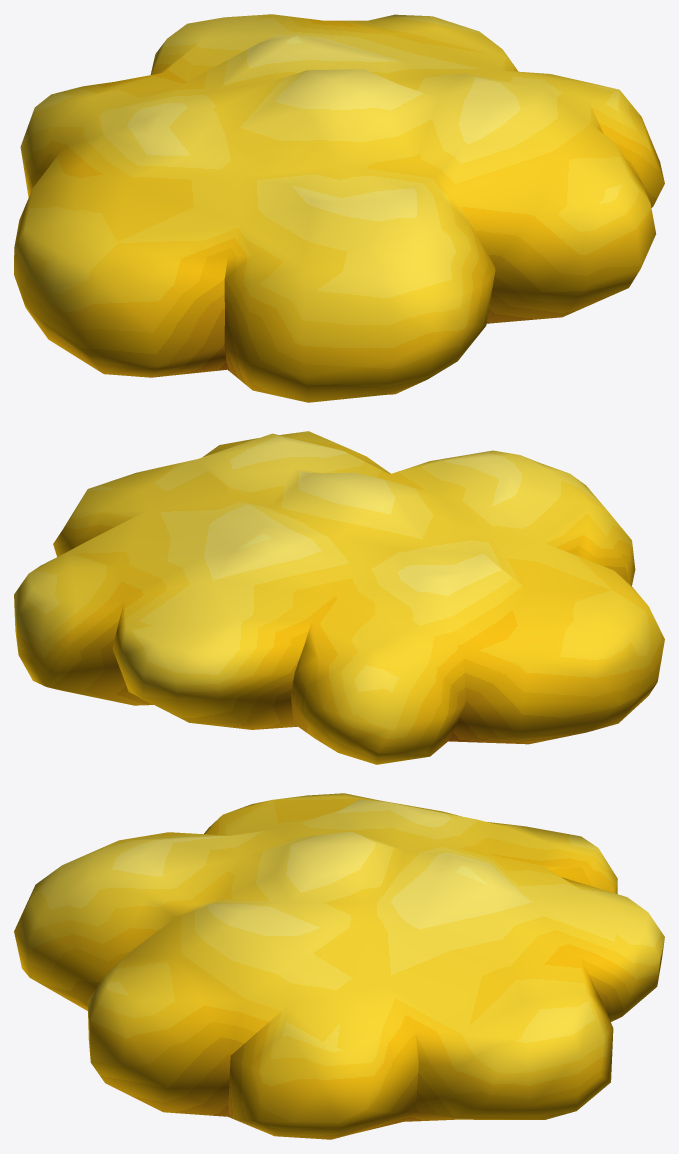
File: mumbaiBoard02.glb
3 views of the same model, one above another, from view 1: azimuth 30°, elevation 25°; view 2: azimuth 150°, elevation 25°; view 3: azimuth 270°, elevation 25° (orthographic). The views are drawn at different scales.
Visible parts, largest first — view 1: mumbaiBoard02; view 2: mumbaiBoard02; view 3: mumbaiBoard02.
Boxes of the visible parts, <box> form: mumbaiBoard02: <box>14,14,664,402</box>; mumbaiBoard02: <box>14,431,664,764</box>; mumbaiBoard02: <box>14,793,664,1139</box>.
Bounding box in the file's own units: 7.67 × 2.69 × 7.34.
1 material, 1 textured.
